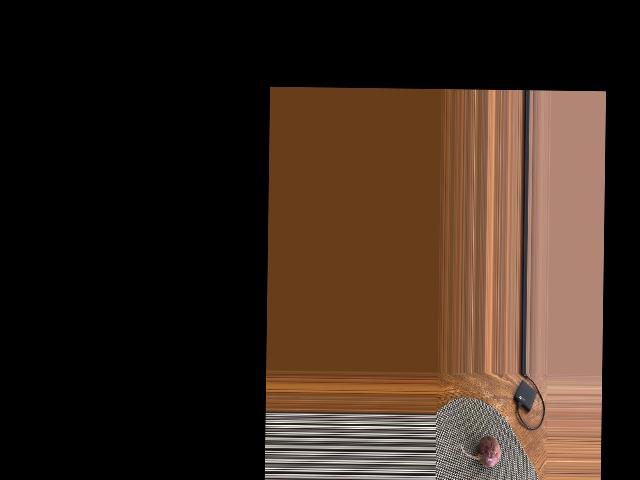beet: (459, 435, 500, 467)
